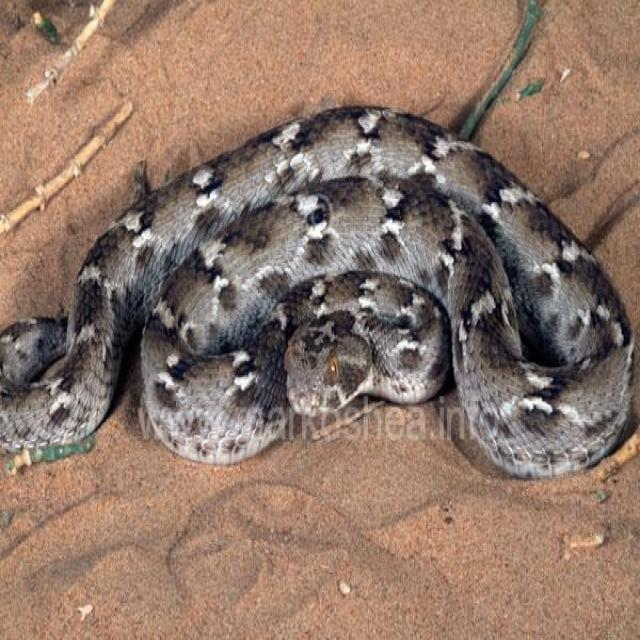Snake: (0, 100, 638, 486)
